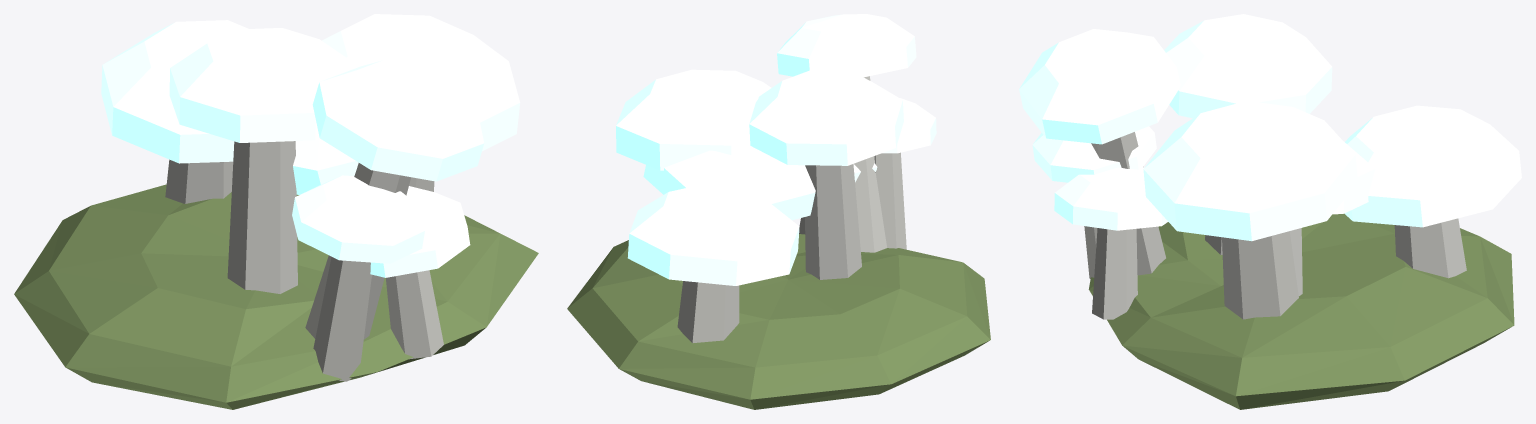
The model's file is mushrooms_glow.glb.
3 renders of one model, left to right at view 1: azimuth 30°, elevation 25°; view 2: azimuth 150°, elevation 25°; view 3: azimuth 270°, elevation 25°, orthographic. The views are drawn at different scales.
Parts seen in each view (by area): view 1: mushrooms_glow; view 2: mushrooms_glow; view 3: mushrooms_glow.
Part boxes in pixels (bbox=[...]): mushrooms_glow: bbox=[14, 14, 538, 409]; mushrooms_glow: bbox=[567, 14, 990, 409]; mushrooms_glow: bbox=[1019, 14, 1521, 409].
Bounding box in the file's own units: 0.7838 × 0.5359 × 0.8011.
